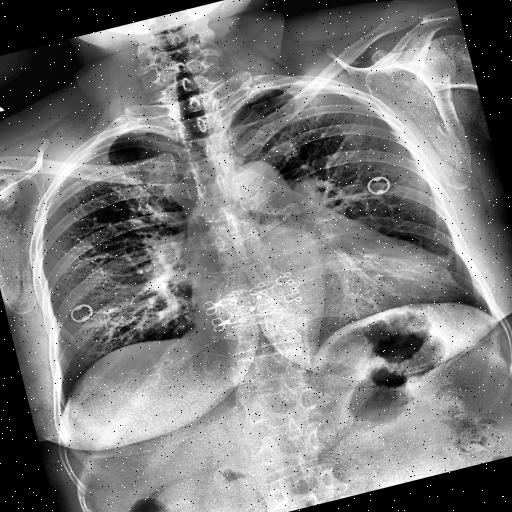0- Aortic enlargement: (225, 153, 287, 212), (228, 156, 292, 210)
3- Cardiomegaly: (184, 226, 462, 360), (190, 239, 464, 366), (190, 234, 458, 362)
